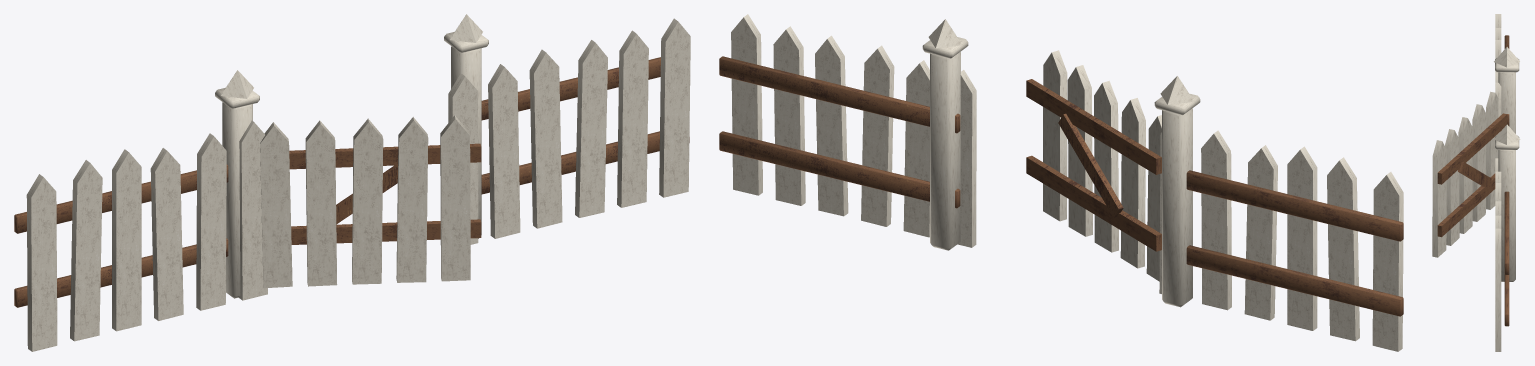
Rendered from picket_fence_gate.glb.
3 views of the same model, side by side, from view 1: azimuth 30°, elevation 25°; view 2: azimuth 150°, elevation 25°; view 3: azimuth 270°, elevation 25° (orthographic). The views are drawn at different scales.
Parts seen in each view (by area): view 1: Fence; view 2: Fence; view 3: Fence.
Part boxes in pixels (bbox=[...]): Fence: bbox=[14, 14, 690, 351]; Fence: bbox=[719, 14, 1403, 351]; Fence: bbox=[1432, 14, 1520, 351].
Bounding box in the file's own units: 4 × 1.27 × 0.6533.
Materials: 1 (1 with a texture image).
